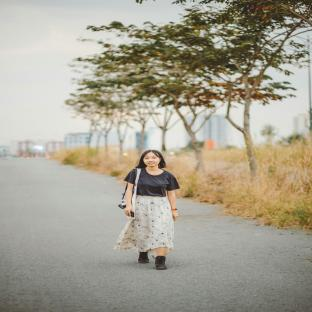Human: (114, 150, 180, 270)
